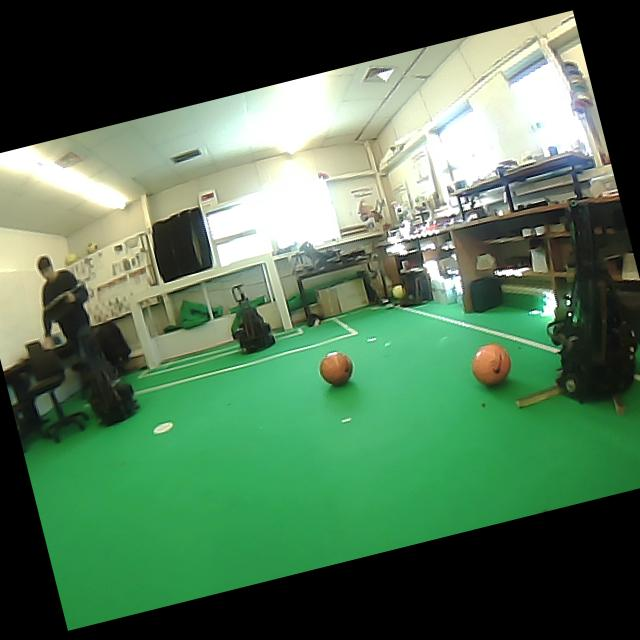ball: (471, 342, 510, 385), (319, 351, 352, 385), (64, 252, 78, 265), (392, 285, 403, 298), (87, 243, 96, 253)
goal: (264, 253, 292, 329), (131, 301, 158, 367)
robot: (550, 202, 637, 402), (231, 284, 274, 353), (88, 366, 139, 424)
